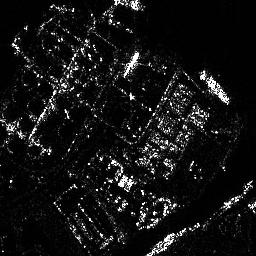ship: (200, 67, 231, 105), (151, 231, 176, 253)
